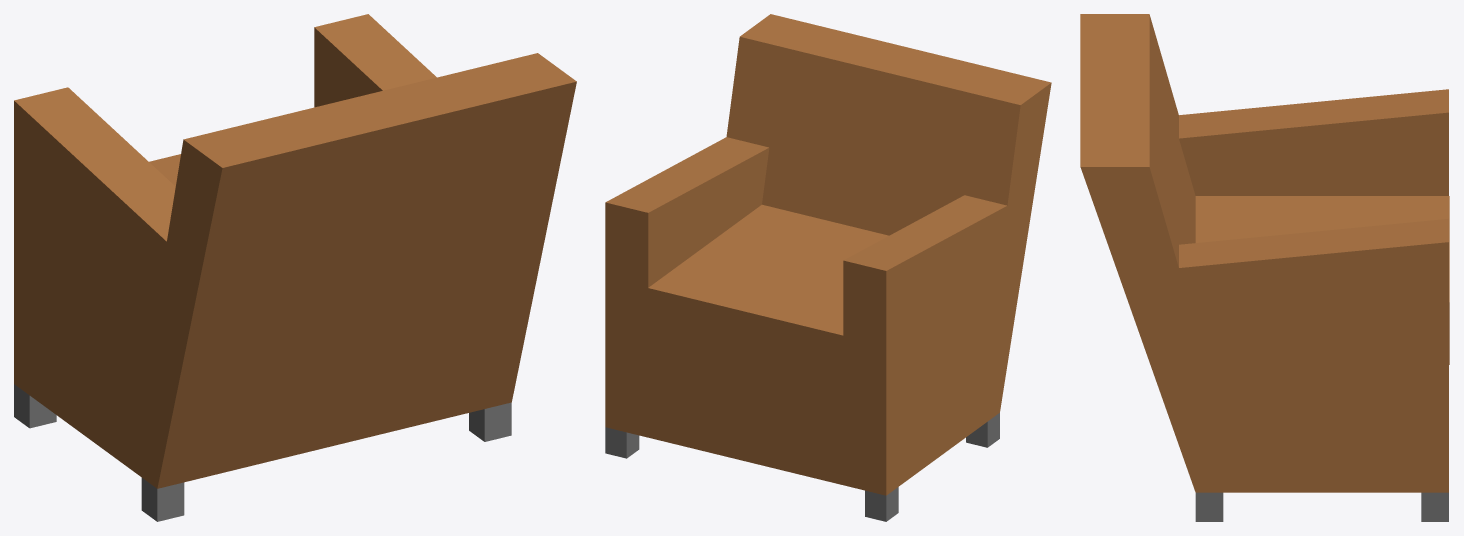
The model's file is lazy_chair.dae.
The picture shows the model from 3 angles, left to right: view 1: azimuth 30°, elevation 25°; view 2: azimuth 150°, elevation 25°; view 3: azimuth 270°, elevation 25°; orthographic projection. The views are drawn at different scales.
Parts seen in each view (by area): view 1: SketchUp (×4); view 2: SketchUp (×4); view 3: SketchUp (×3).
Boxes of the visible parts, bbox=[...] form: SketchUp (×4): bbox=[14, 14, 576, 521]; SketchUp (×4): bbox=[605, 14, 1051, 521]; SketchUp (×3): bbox=[1080, 14, 1449, 521].
Bounding box in the file's own units: 30.91 × 31.54 × 33.46.
Materials: 3 (2 with a texture image).
